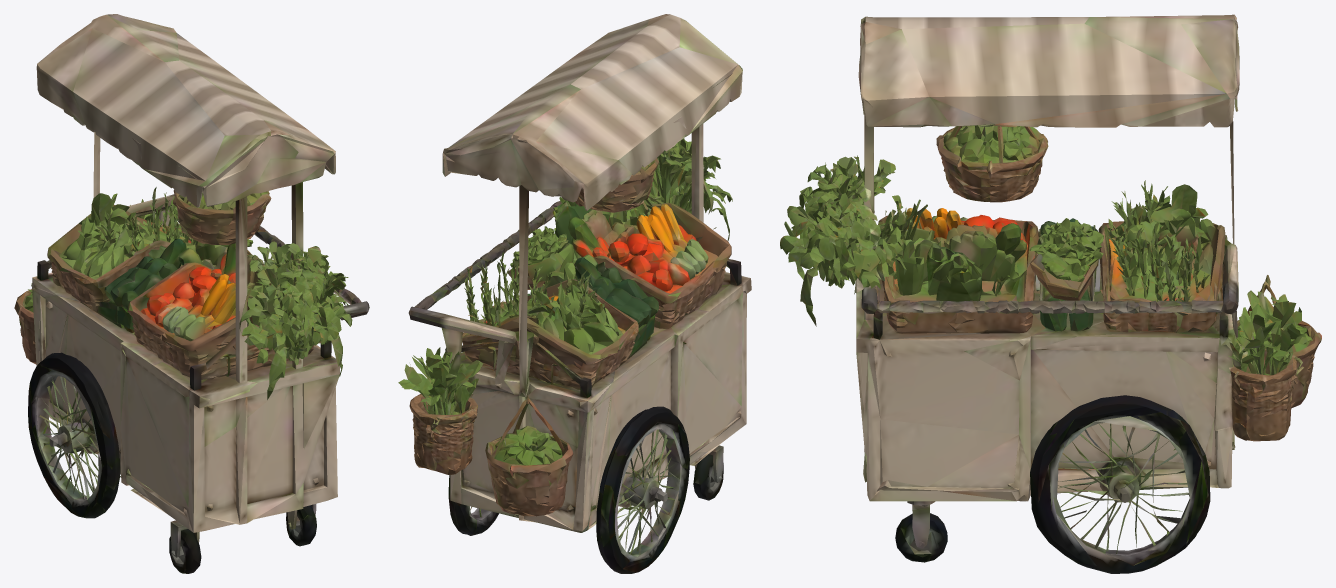
File: vc1_cart_b.glb
The picture shows the model from 3 angles, left to right: view 1: azimuth 30°, elevation 25°; view 2: azimuth 150°, elevation 25°; view 3: azimuth 270°, elevation 25°; orthographic projection. The views are drawn at different scales.
Parts seen in each view (by area): view 1: vc1_cart_b; view 2: vc1_cart_b; view 3: vc1_cart_b.
Part boxes in pixels (x1,y1,x2,y2): vc1_cart_b: [14, 14, 369, 573]; vc1_cart_b: [398, 14, 751, 573]; vc1_cart_b: [780, 14, 1321, 573].
Size of the model in its own units: 0.9788 by 2 by 1.93.
1 material, 1 textured.
